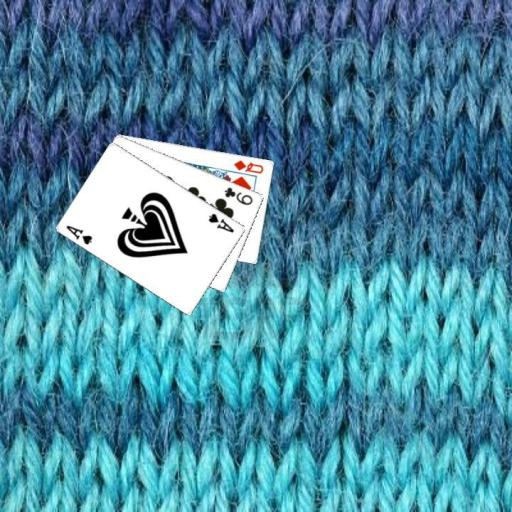9C: (221, 184, 255, 207)
AS: (63, 222, 94, 246), (206, 210, 236, 234)
QD: (231, 156, 265, 175)
